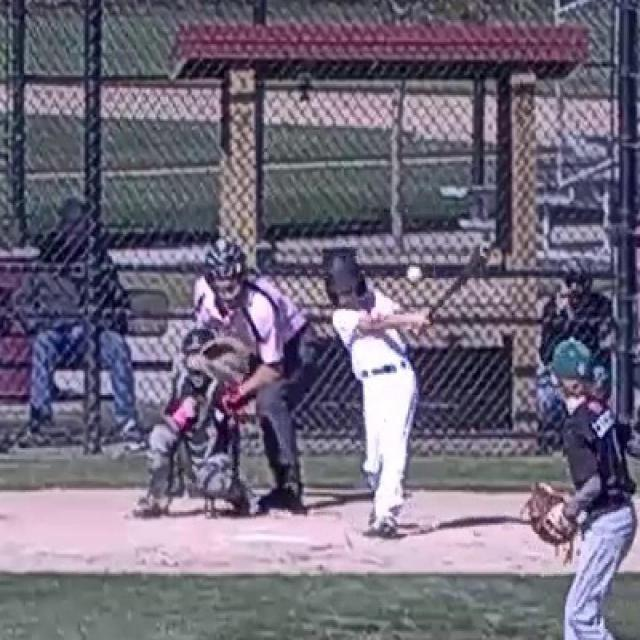baseball: (407, 267, 422, 281)
